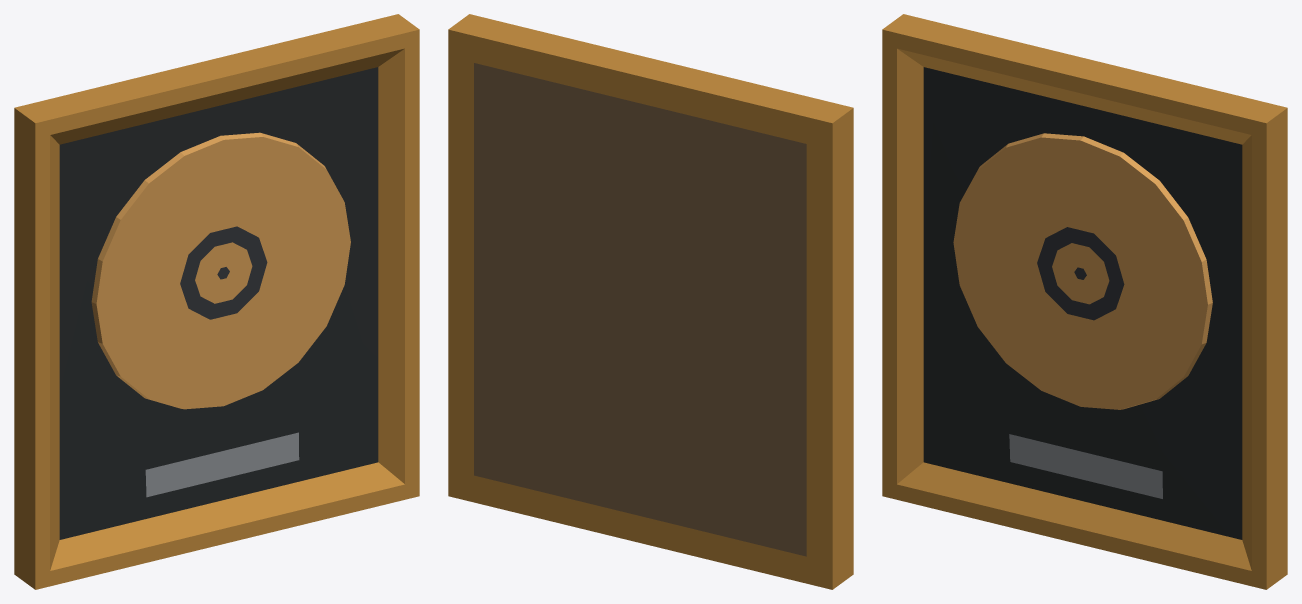
The model's file is SM_Prop_Music_Framed_Record_01.obj.
3 views of the same model, side by side, from view 1: azimuth 30°, elevation 25°; view 2: azimuth 150°, elevation 25°; view 3: azimuth 330°, elevation 25° (orthographic).
Parts seen in each view (by area): view 1: SM_Prop_Music_Framed_Record_01_0; view 2: SM_Prop_Music_Framed_Record_01_0; view 3: SM_Prop_Music_Framed_Record_01_0.
Part boxes in pixels (x1,y1,x2,y2): SM_Prop_Music_Framed_Record_01_0: (14,14,419,589); SM_Prop_Music_Framed_Record_01_0: (448,14,853,589); SM_Prop_Music_Framed_Record_01_0: (882,14,1287,589).
Bounding box in the file's own units: 0.7858 × 0.9119 × 0.0753.
1 material, 1 textured.
